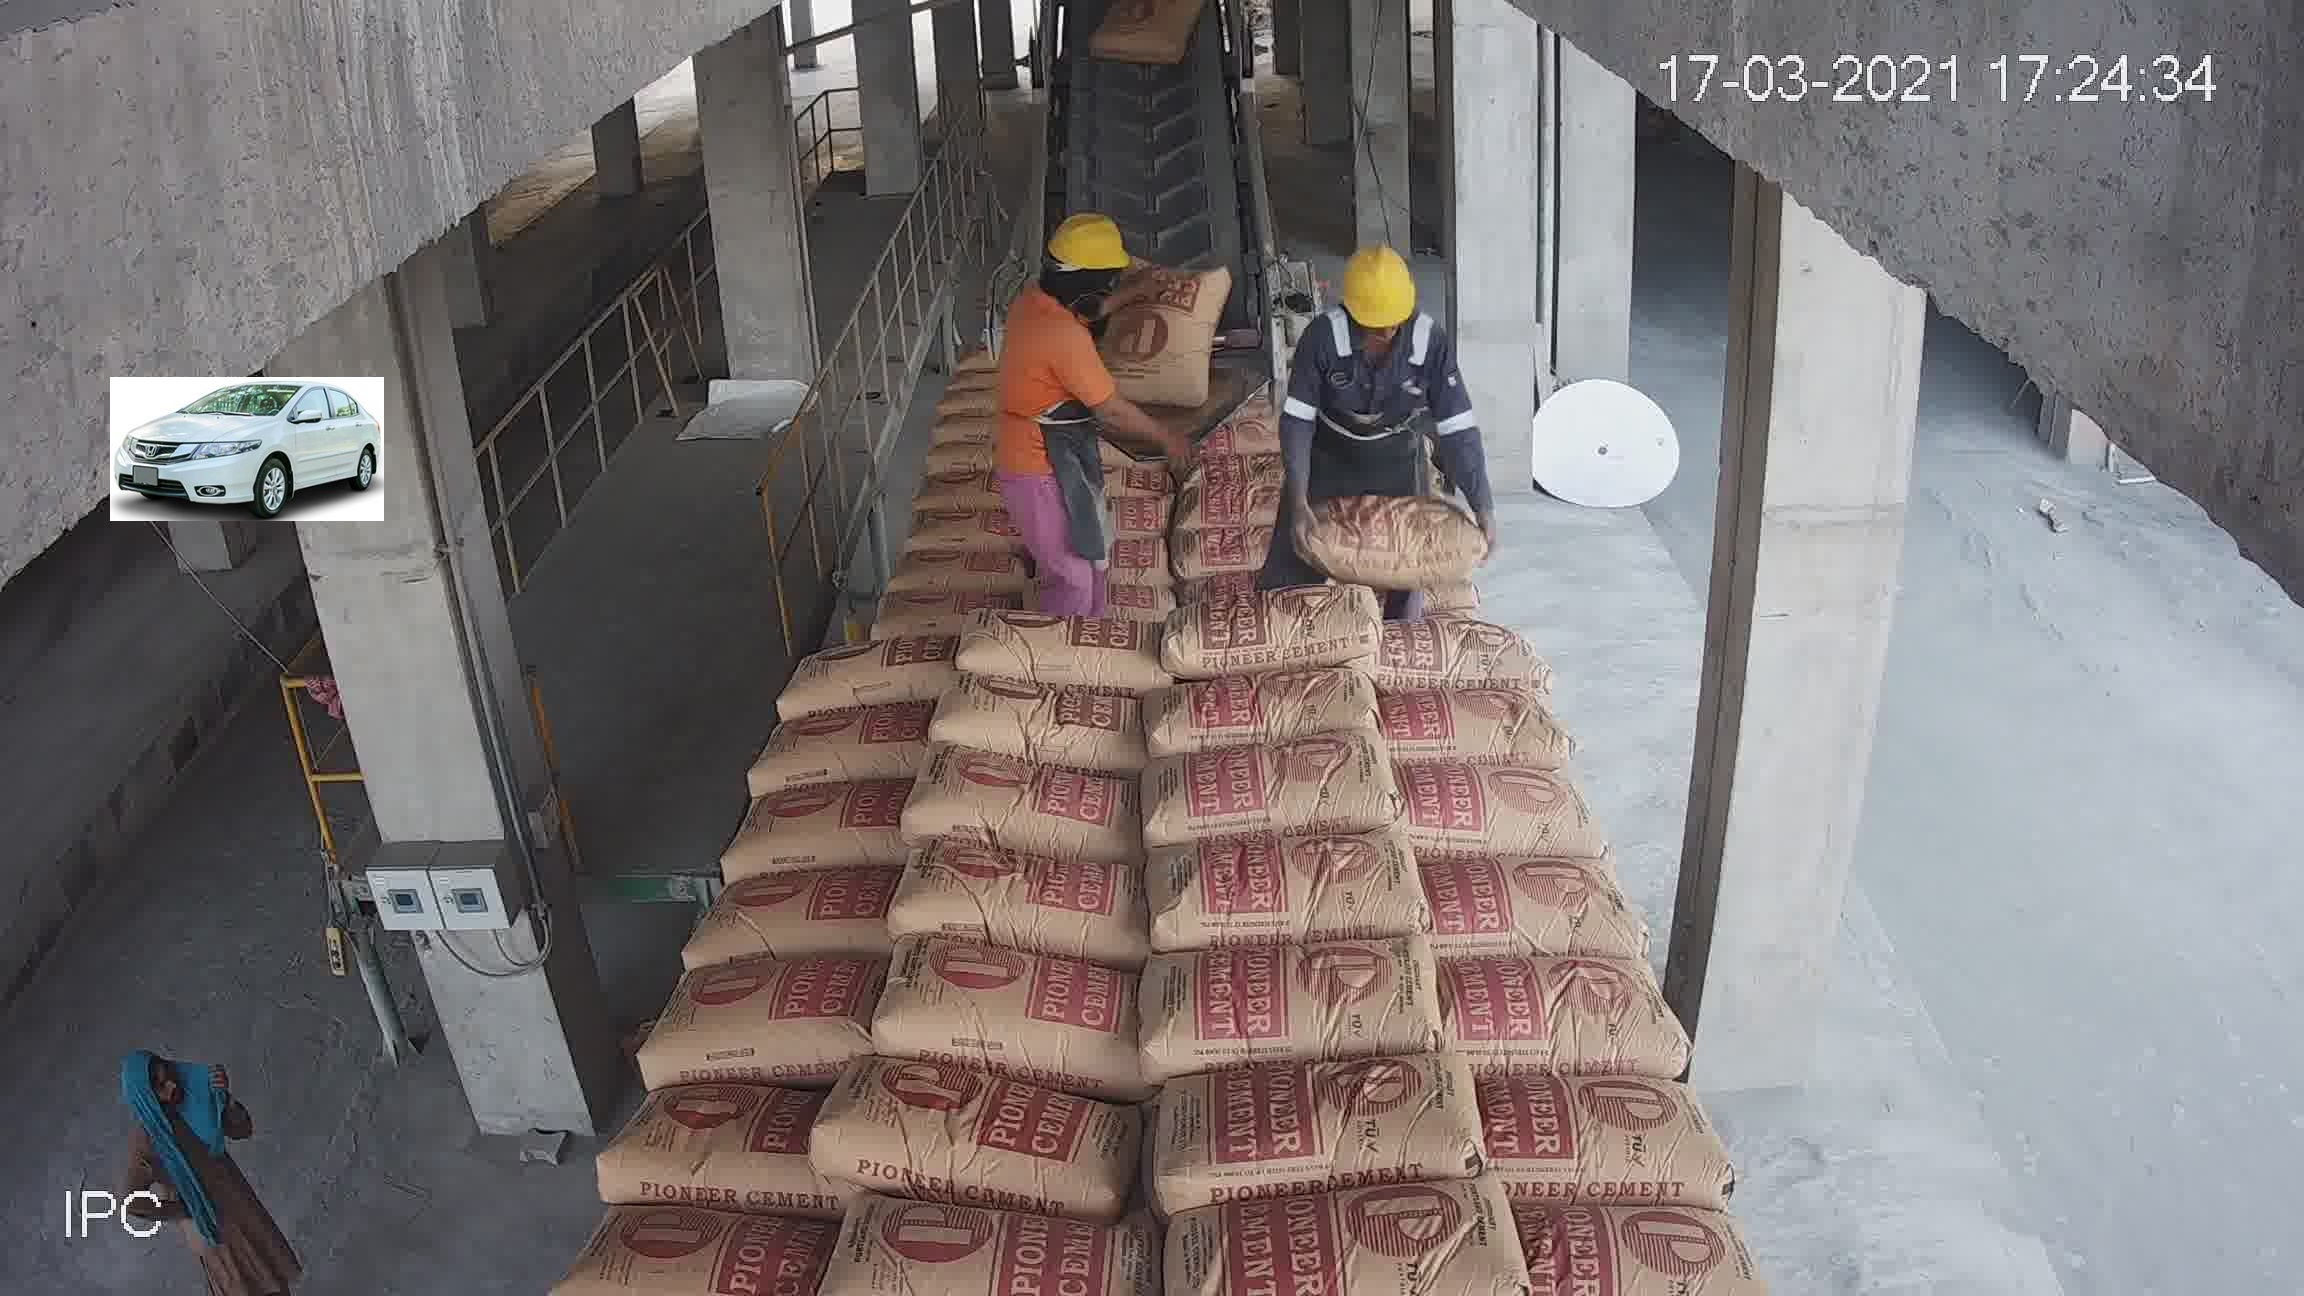bag: (1097, 40, 1193, 117)
bag_h: (1133, 1059, 1505, 1193), (1124, 934, 1465, 1079), (1124, 1188, 1541, 1296), (1116, 832, 1438, 965), (834, 1060, 1125, 1207), (877, 940, 1157, 1063), (1141, 734, 1404, 855), (654, 945, 873, 1086), (604, 1065, 839, 1196), (1480, 1055, 1692, 1196), (907, 744, 1161, 847), (813, 1214, 1127, 1296), (892, 855, 1135, 956), (1459, 962, 1688, 1068), (1138, 582, 1389, 677), (1383, 753, 1582, 869), (1529, 1201, 1769, 1296), (1139, 647, 1367, 744), (567, 1211, 809, 1296), (744, 703, 945, 802), (703, 866, 907, 964), (954, 612, 1179, 696), (1147, 527, 1370, 611), (1427, 858, 1608, 961), (945, 676, 1150, 764), (722, 779, 911, 870), (983, 544, 1165, 625), (798, 623, 946, 715), (1136, 404, 1332, 472), (1370, 688, 1576, 752), (1347, 446, 1492, 535), (980, 498, 1161, 568), (1143, 491, 1355, 544), (1321, 508, 1503, 568), (824, 533, 1005, 593), (775, 589, 949, 649), (1366, 623, 1540, 684), (1362, 563, 1513, 631), (836, 487, 997, 548), (1150, 456, 1331, 506), (975, 460, 1135, 510), (1010, 435, 1161, 483), (1067, 332, 1177, 396), (861, 441, 987, 494), (1332, 434, 1461, 483), (1168, 350, 1241, 388)
belt: (1059, 22, 1268, 290)
